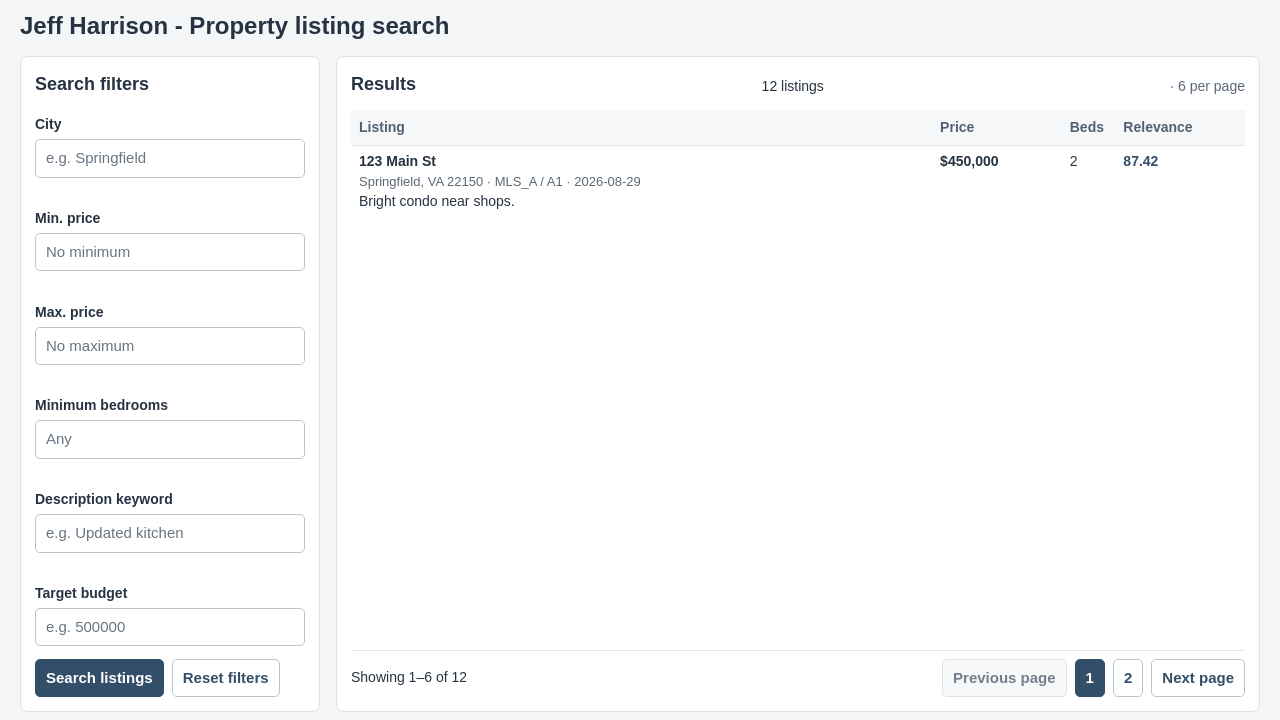
Test: listing search › reuses fresh cached pages when navigating back
Expected: the table named "Listing results" is shown, top-left (351, 110), bottom-right (1245, 650)
Click the button "Next page" at (1198, 678), box top-left (1151, 658), bottom-right (1245, 697)
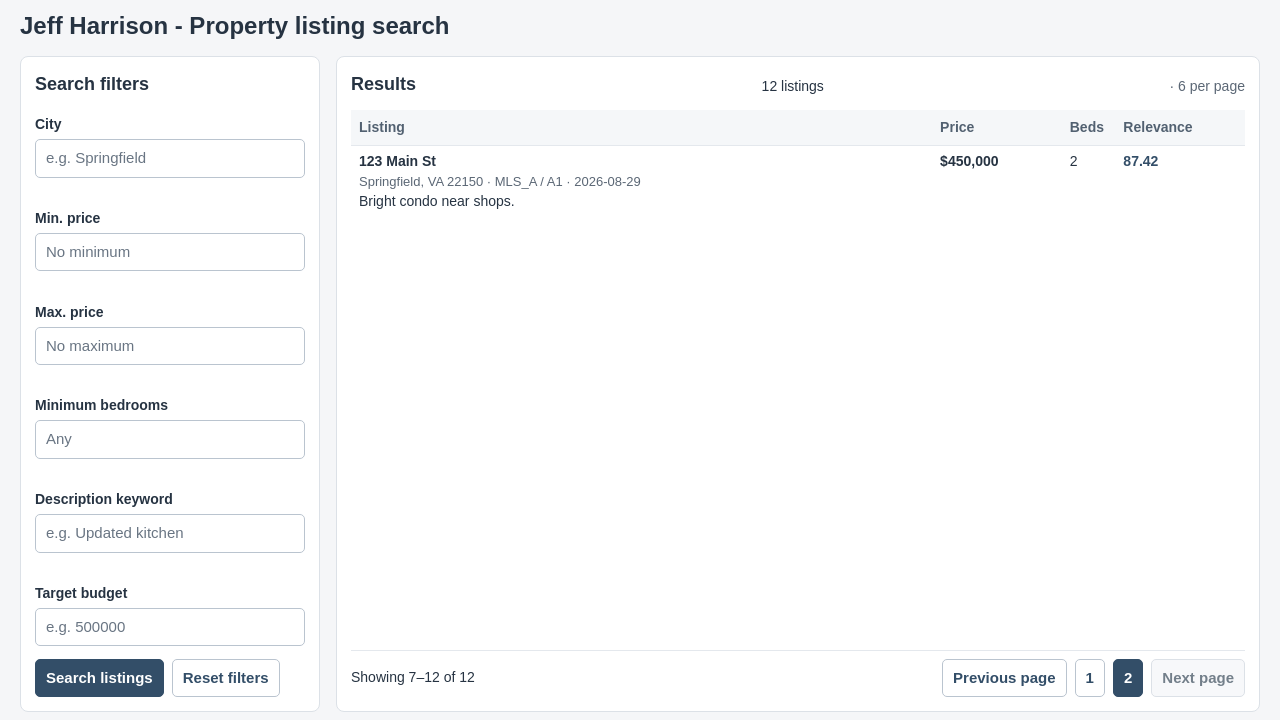
Expected: the text "Showing 7–12 of 12" is shown, top-left (351, 667), bottom-right (475, 688)
Click the button "Previous page" at (1004, 678), box top-left (942, 658), bottom-right (1067, 697)
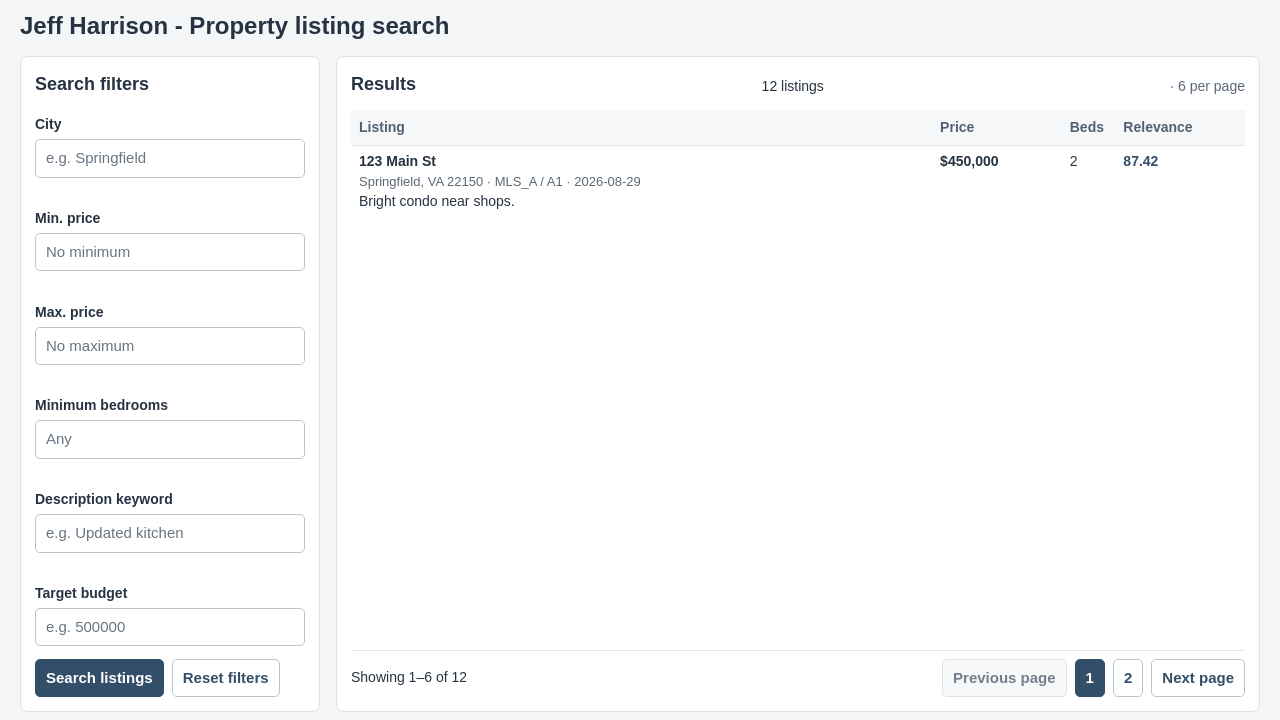
Expected: the text "Showing 1–6 of 12" is shown, top-left (351, 667), bottom-right (467, 688)
